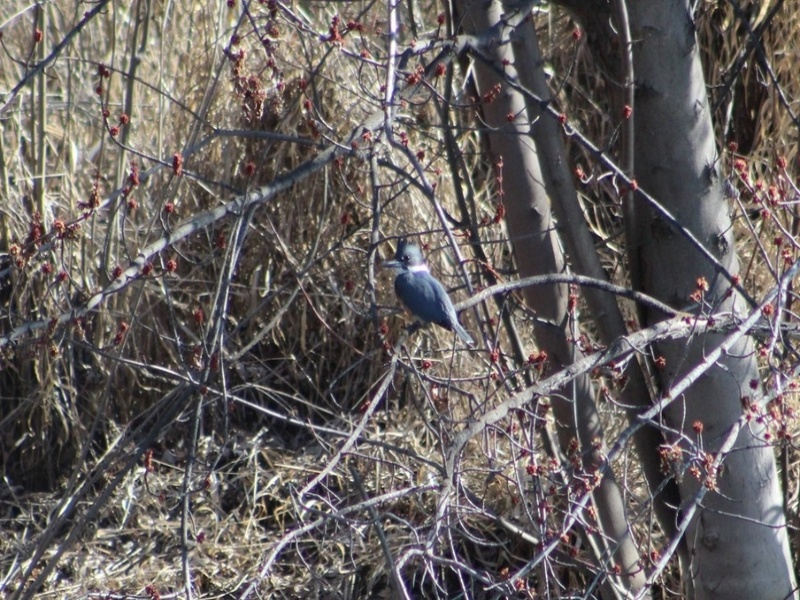kingfisher: (379, 238, 478, 346)
